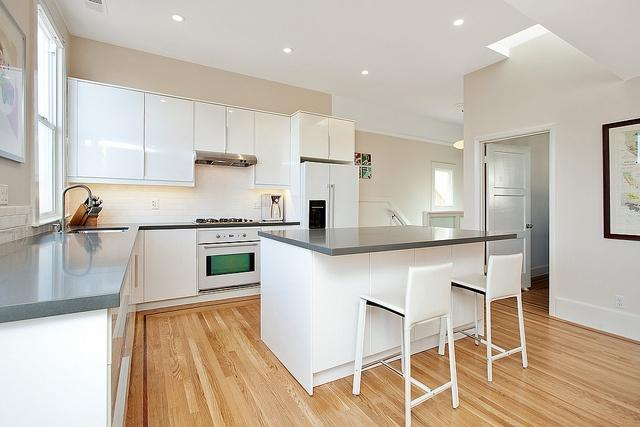Kursi: (351, 262, 459, 426), (450, 251, 528, 380)
Lemari: (66, 75, 195, 186), (253, 108, 291, 189)
